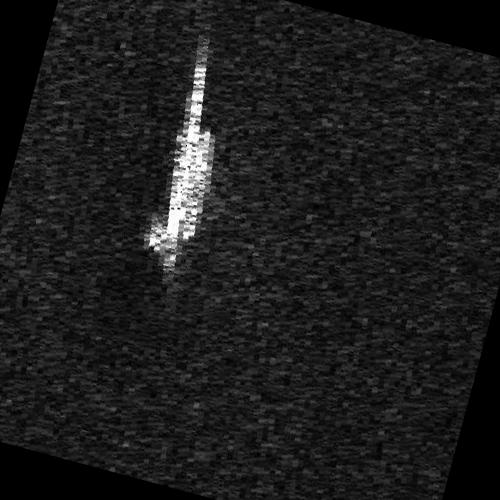ship: (145, 54, 215, 274)
